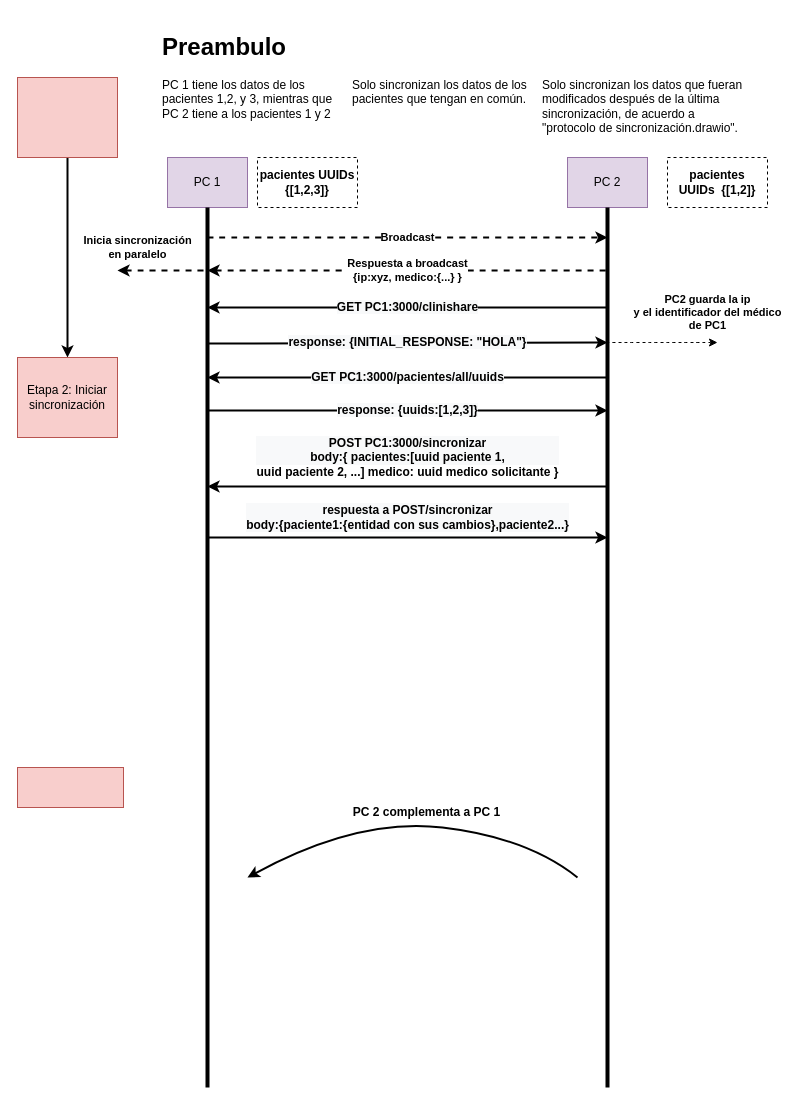
Some shapes in this 799 by 1107 pixel diagram are drawn without their labels. The shapes that lost their labels are listed below. From the top down, each one's centre as x and y in pixels, then its label:
At point 67,117: "Etapa 1: Conectarse".
At point 70,787: "Etapa 3: Sincronizar".
